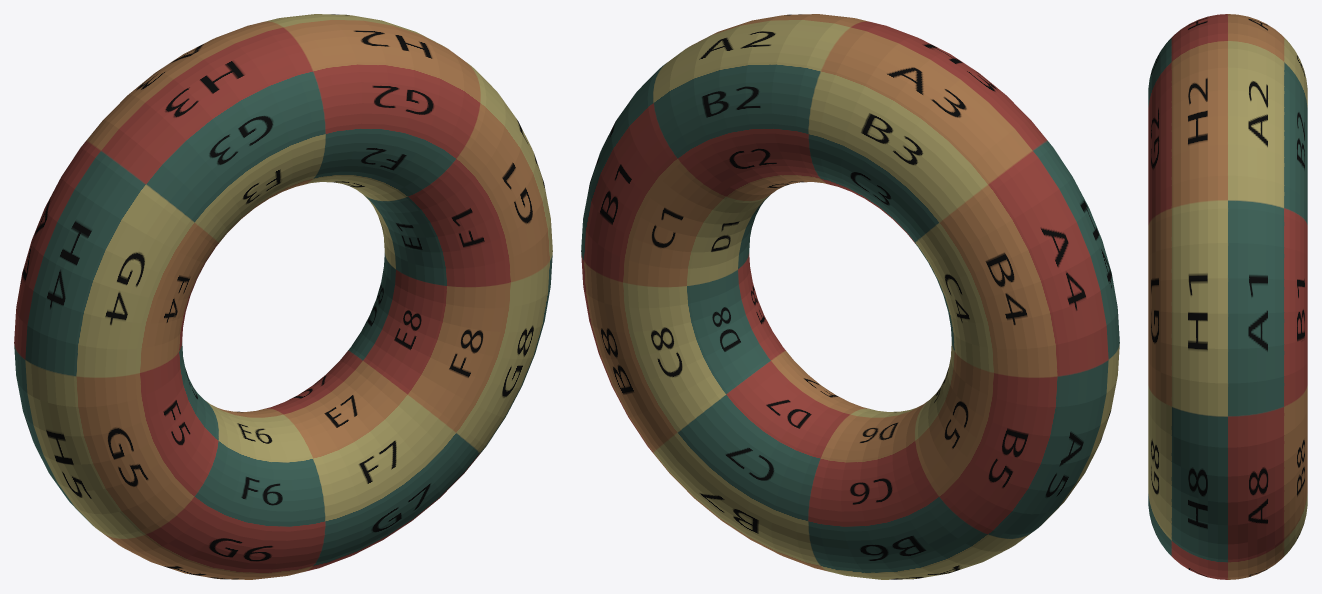
Rendered from texture_torus_R13_r20.glb.
3 views of the same model, side by side, from view 1: azimuth 30°, elevation 25°; view 2: azimuth 150°, elevation 25°; view 3: azimuth 270°, elevation 25° (orthographic). The views are drawn at different scales.
Parts seen in each view (by area): view 1: world; view 2: world; view 3: world.
Boxes of the visible parts, x1=… form: world: x1=14, y1=14, x2=552, y2=579; world: x1=581, y1=14, x2=1119, y2=579; world: x1=1148, y1=14, x2=1307, y2=579.
Bounding box in the file's own units: 26 × 25.95 × 7.32.
Materials: 1 (1 with a texture image).
